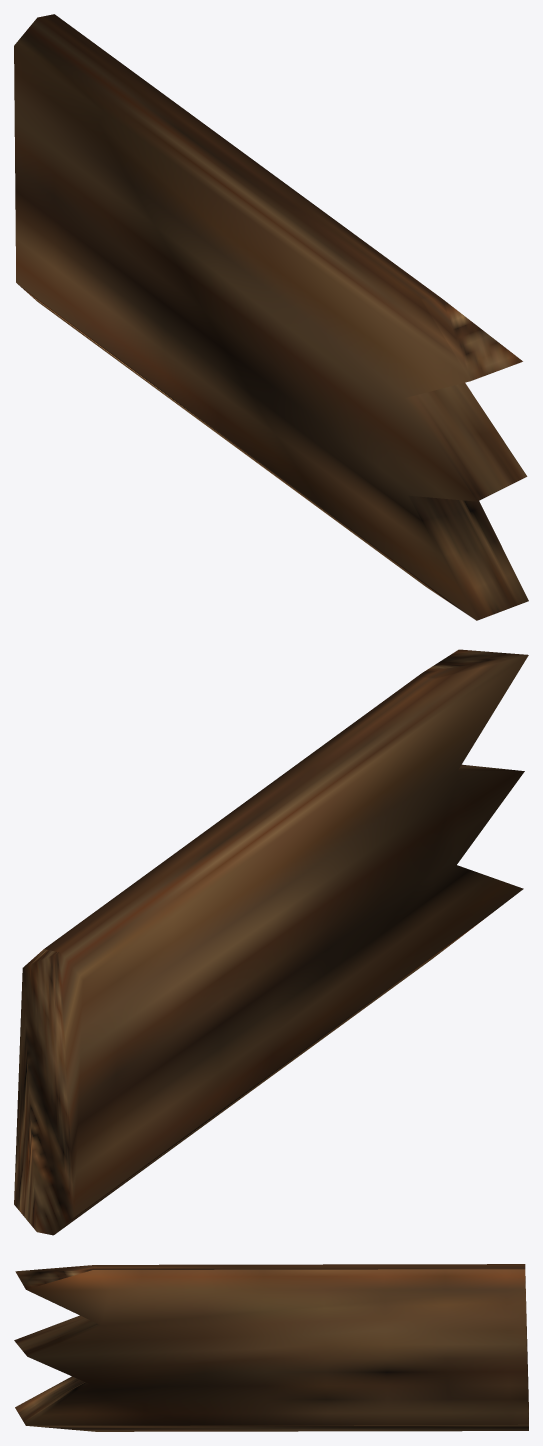
Rendered from BrokenPlank.gltf.
3 renders of one model, top to bottom at view 1: azimuth 30°, elevation 25°; view 2: azimuth 150°, elevation 25°; view 3: azimuth 270°, elevation 25°, orthographic. The views are drawn at different scales.
Visible parts, largest first — view 1: Broken Plank; view 2: Broken Plank; view 3: Broken Plank.
Part boxes in pixels (bbox=[...]): Broken Plank: bbox=[14, 14, 528, 620]; Broken Plank: bbox=[14, 649, 528, 1235]; Broken Plank: bbox=[14, 1264, 528, 1431].
Bounding box in the file's own units: 0.081 × 0.3288 × 0.9474.
